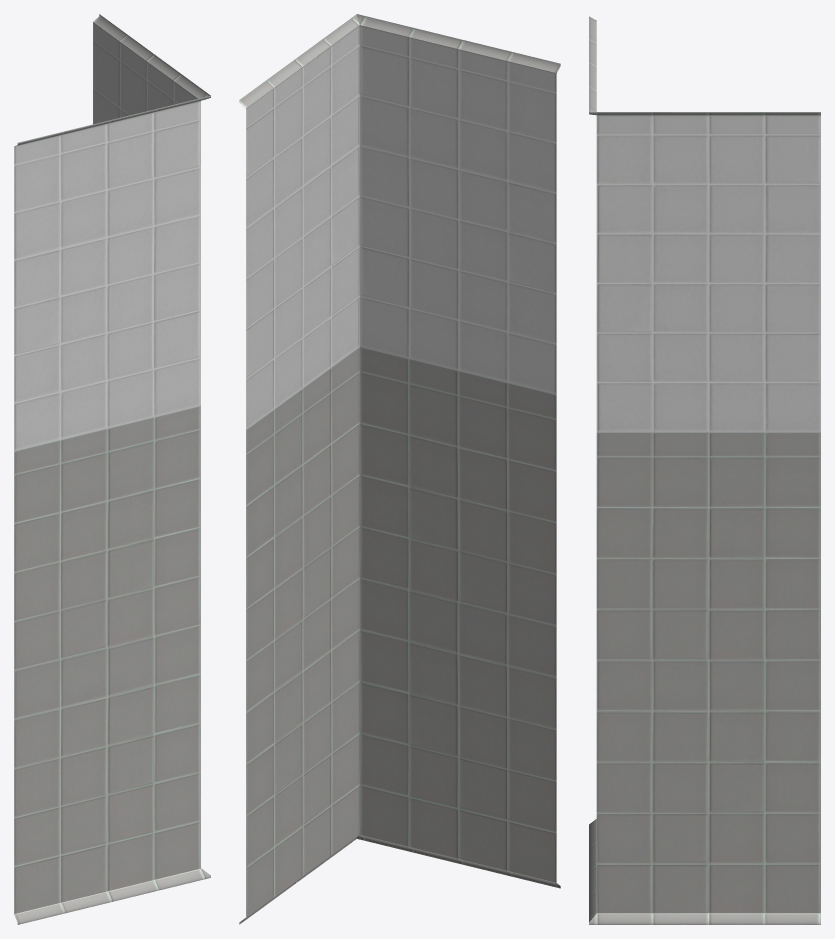
File: bathroom_convex_short.dae
3 views of the same model, side by side, from view 1: azimuth 30°, elevation 25°; view 2: azimuth 150°, elevation 25°; view 3: azimuth 270°, elevation 25° (orthographic). The views are drawn at different scales.
Parts seen in each view (by area): view 1: polySurface12; view 2: polySurface12; view 3: polySurface12.
Part boxes in pixels (<box>): polySurface12: <box>14,14,210,924</box>; polySurface12: <box>239,14,560,924</box>; polySurface12: <box>589,16,820,924</box>.
Size of the model in its own units: 1.03 by 4 by 1.03.
